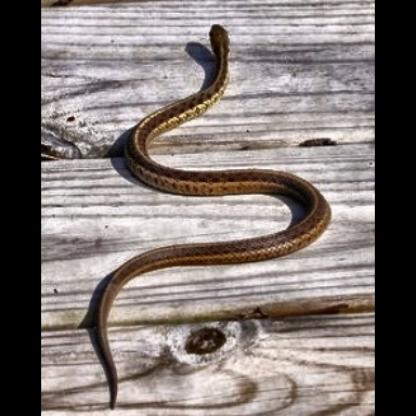Snake: (81, 23, 336, 409)
